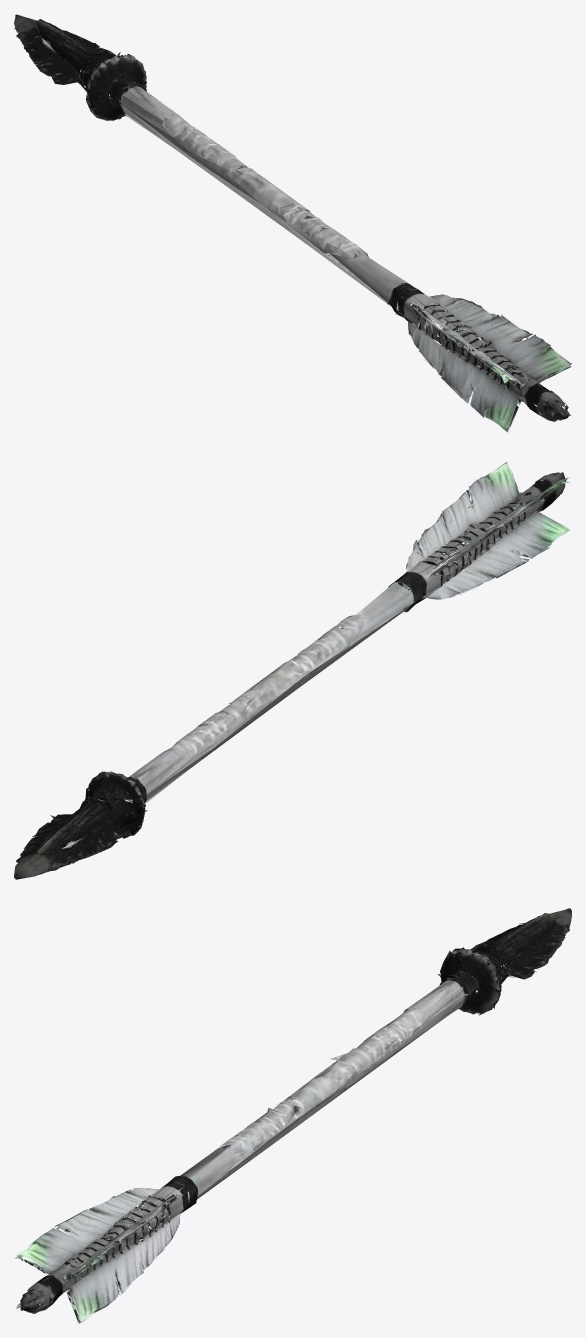
File: frost.glb
3 renders of one model, top to bottom at view 1: azimuth 30°, elevation 25°; view 2: azimuth 150°, elevation 25°; view 3: azimuth 330°, elevation 25°, orthographic.
Parts seen in each view (by area): view 1: Mesh_0; view 2: Mesh_0; view 3: Mesh_0.
Boxes of the visible parts, x1,y1,x2,y2 form: Mesh_0: [14, 14, 571, 432]; Mesh_0: [14, 461, 570, 879]; Mesh_0: [14, 908, 571, 1323].
Bounding box in the file's own units: 0.063 × 0.0531 × 0.8015.
1 material, 1 textured.
